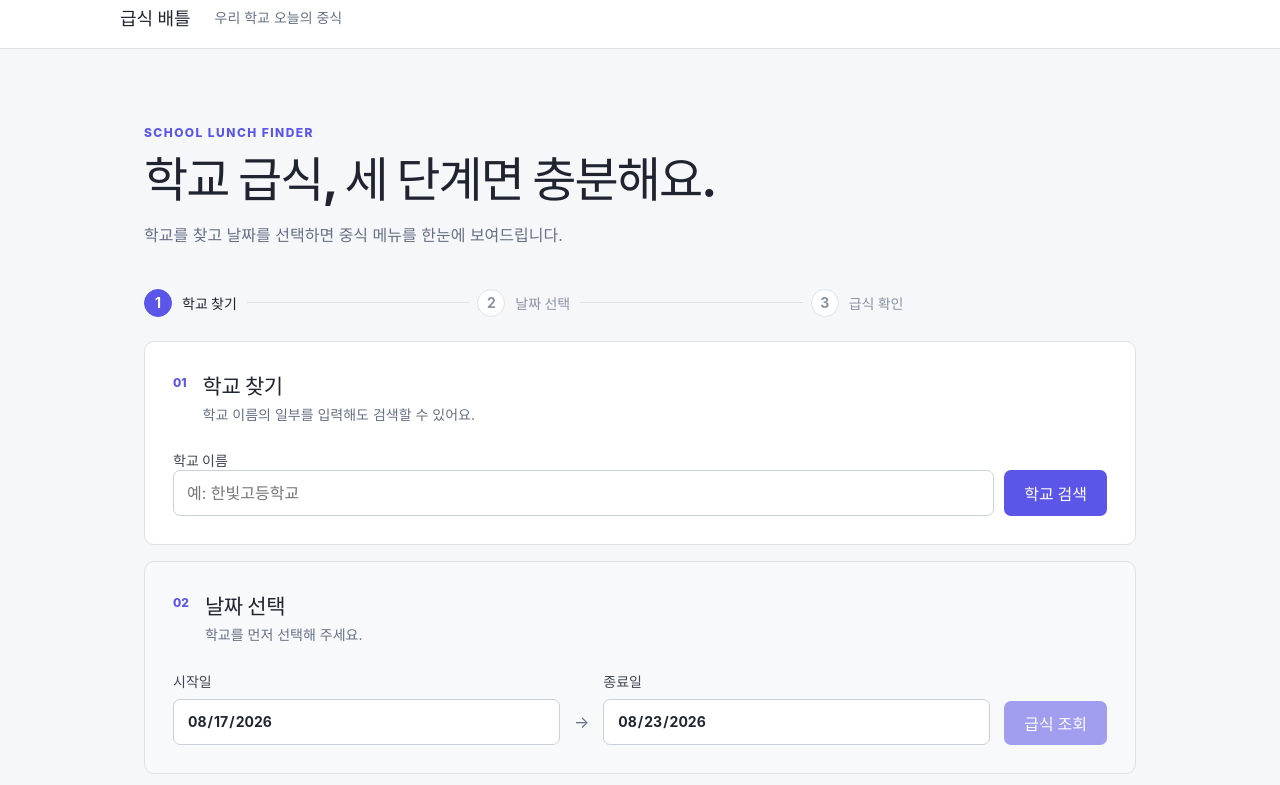
Test case: App › searches and selects a school with the keyboard
Type "예시" into the dropdown labelled "학교 이름" at (584, 493), box [173,470,994,516]
Then press Enter
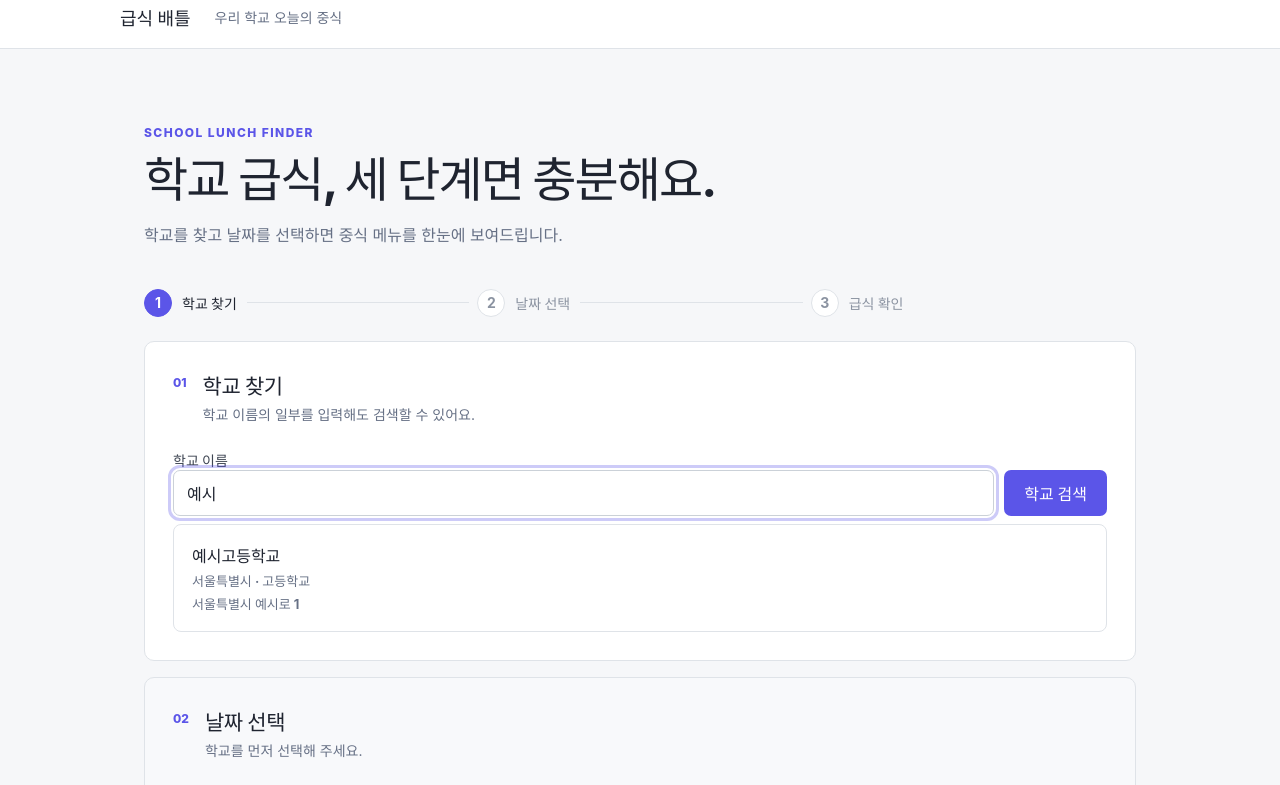
Expected: the text "예시고등학교" is shown, [192,546,280,566]
Press Arrowdown Enter
(page scrolled)
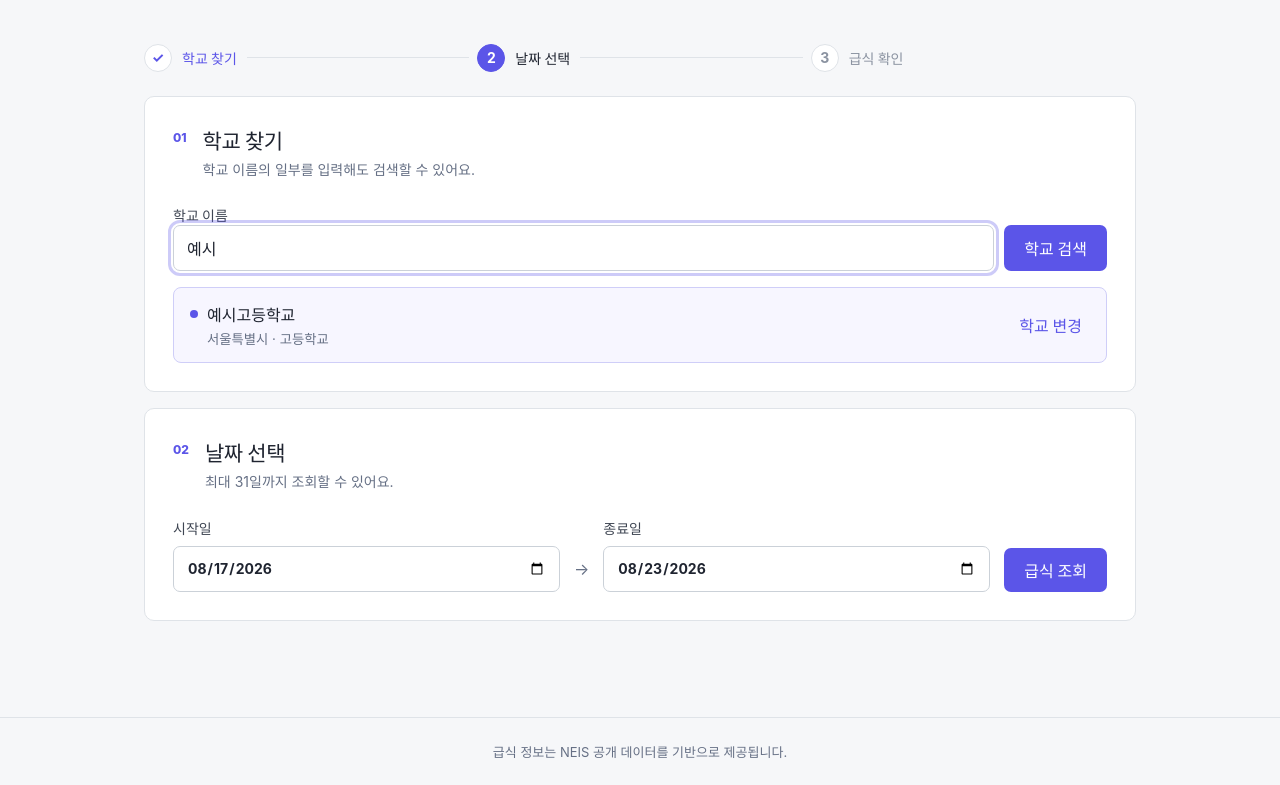
Expected: the button "급식 조회" is enabled, [1004,548,1107,592]
Expected: the text "서울특별시 · 고등학교" is shown, [207,329,329,348]
